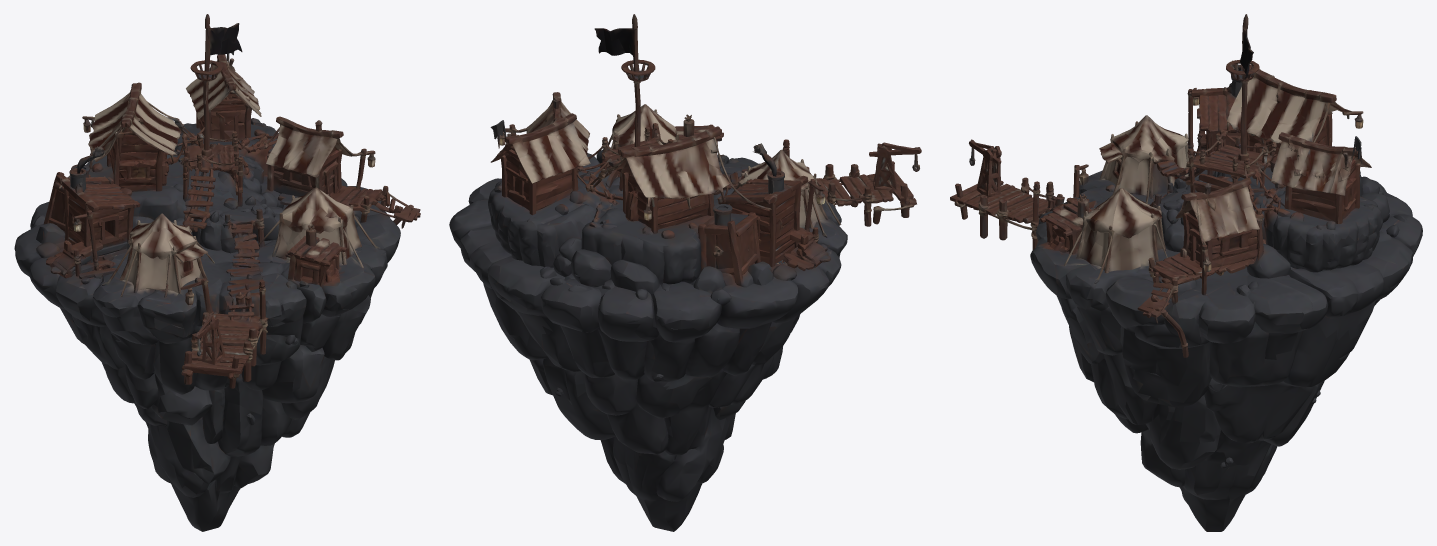
3 renders of one model, left to right at view 1: azimuth 30°, elevation 25°; view 2: azimuth 150°, elevation 25°; view 3: azimuth 270°, elevation 25°, orthographic. The views are drawn at different scales.
Visible parts, largest first — view 1: Mesh_0; view 2: Mesh_0; view 3: Mesh_0.
Part boxes in pixels (x1=…): Mesh_0: x1=14, y1=14, x2=420, y2=531; Mesh_0: x1=449, y1=14, x2=921, y2=531; Mesh_0: x1=950, y1=14, x2=1422, y2=531.
Size of the model in its own units: 1.39 by 1.9 by 1.56.
Materials: 1 (1 with a texture image).
